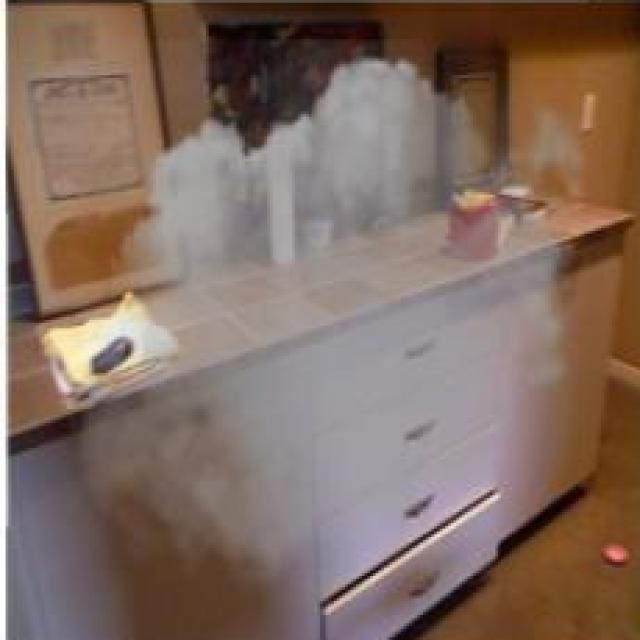fire: (62, 38, 606, 610)
